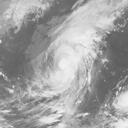cyclone: (42, 35, 88, 99), (115, 92, 125, 113)
